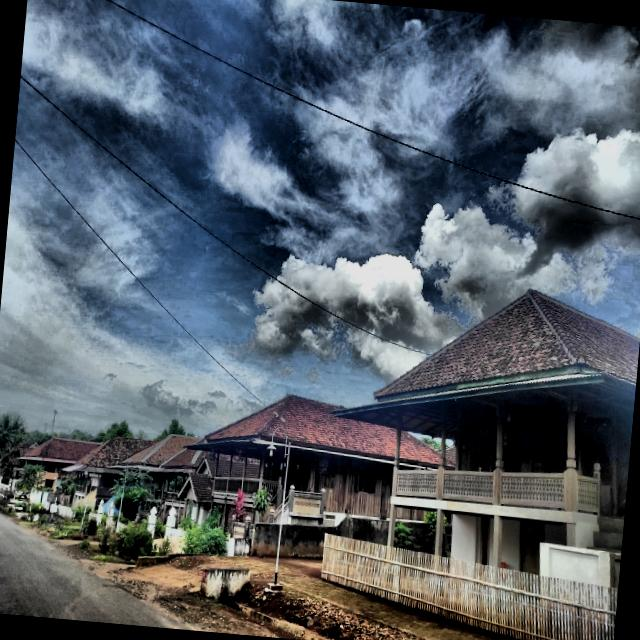column: (433, 509, 444, 572), (566, 402, 575, 468), (386, 504, 396, 562), (493, 515, 501, 584), (495, 409, 503, 467), (393, 425, 401, 466), (439, 423, 446, 465), (242, 453, 247, 478), (228, 454, 233, 477), (214, 453, 219, 476)
door: (519, 520, 541, 593)
ornamen: (500, 472, 564, 508), (442, 470, 493, 502), (396, 470, 437, 497), (577, 475, 597, 512), (261, 479, 278, 501), (242, 477, 259, 497), (227, 477, 242, 494), (213, 476, 227, 492)
roof: (329, 289, 640, 440), (182, 393, 455, 470)
stair: (586, 517, 624, 553)
wall: (454, 395, 634, 514), (259, 446, 428, 521)
window: (481, 518, 488, 564)
